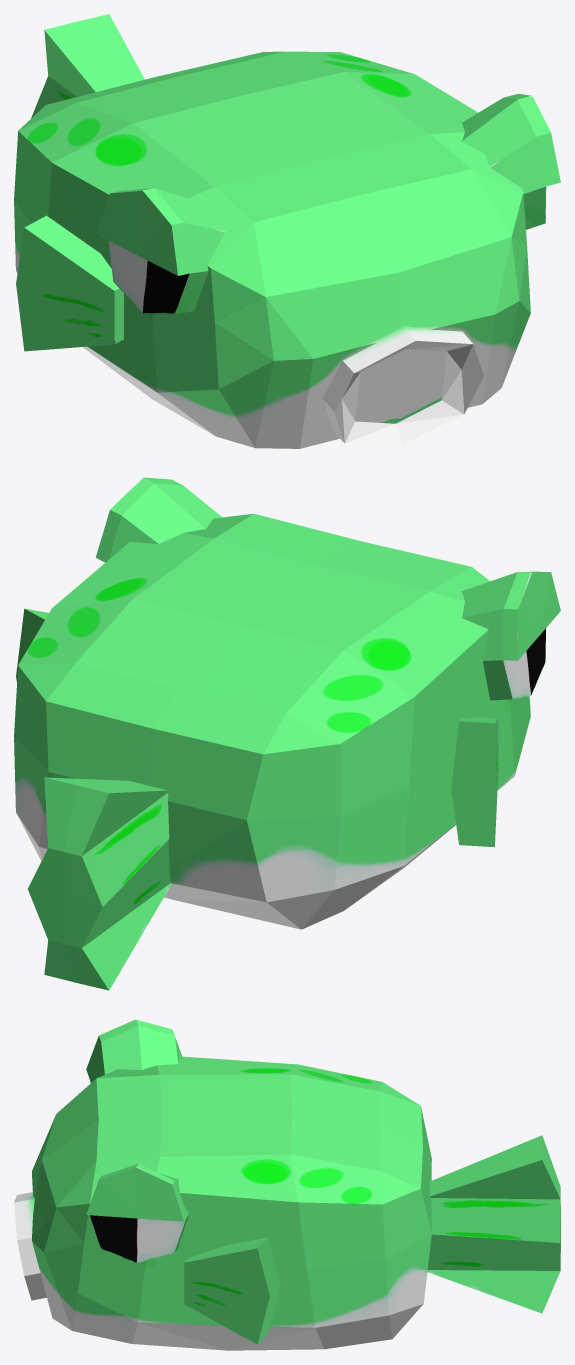
File: フグ_Mini.fbx
The picture shows the model from 3 angles, top to bottom: view 1: azimuth 30°, elevation 25°; view 2: azimuth 150°, elevation 25°; view 3: azimuth 270°, elevation 25°; orthographic projection. The views are drawn at different scales.
Parts seen in each view (by area): view 1: Cube; view 2: Cube; view 3: Cube.
Part boxes in pixels (<box>): Cube: <box>14,14,560,448</box>; Cube: <box>14,477,560,990</box>; Cube: <box>14,1019,560,1350</box>.
Bounding box in the file's own units: 302 × 164 × 389.
